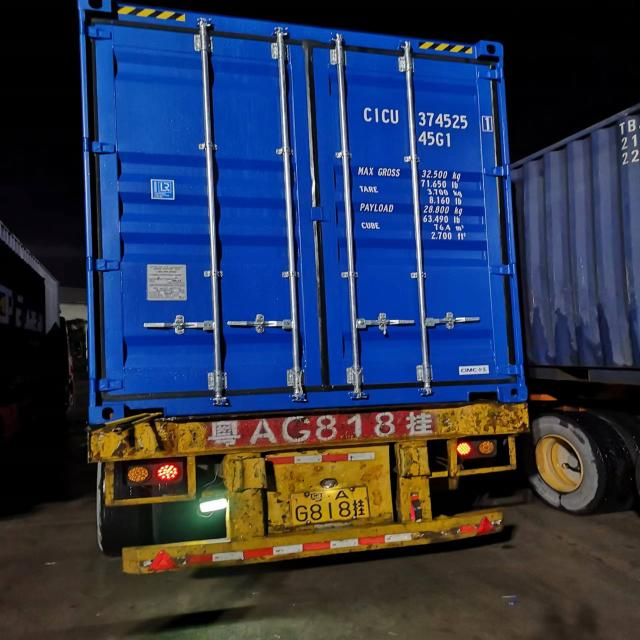seal: (379, 316, 390, 336)
